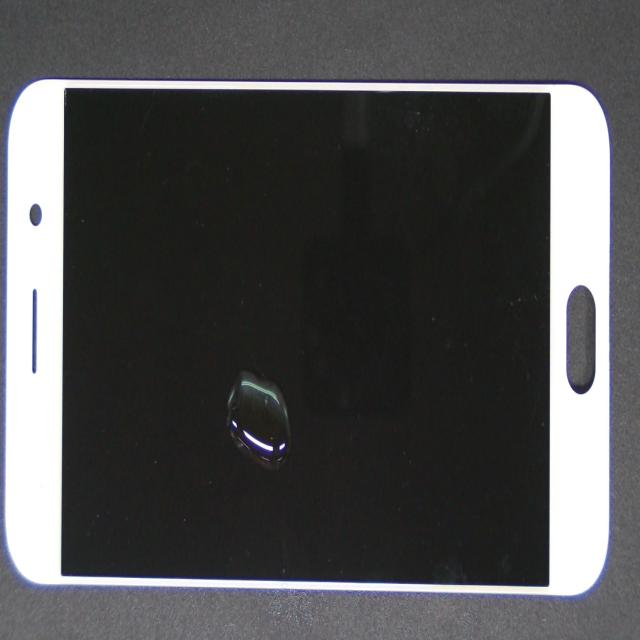oil: (204, 342, 321, 494)
